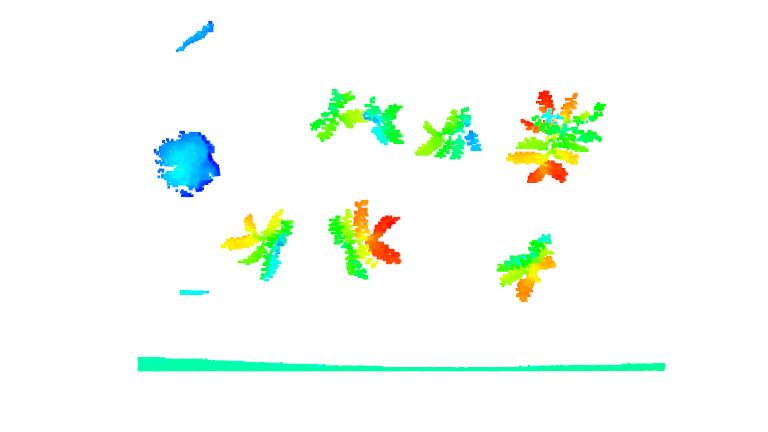chickpea: (503, 88, 608, 184), (327, 198, 402, 281), (223, 210, 294, 284), (492, 231, 560, 302), (411, 103, 483, 161), (307, 86, 368, 142), (362, 94, 408, 145)
